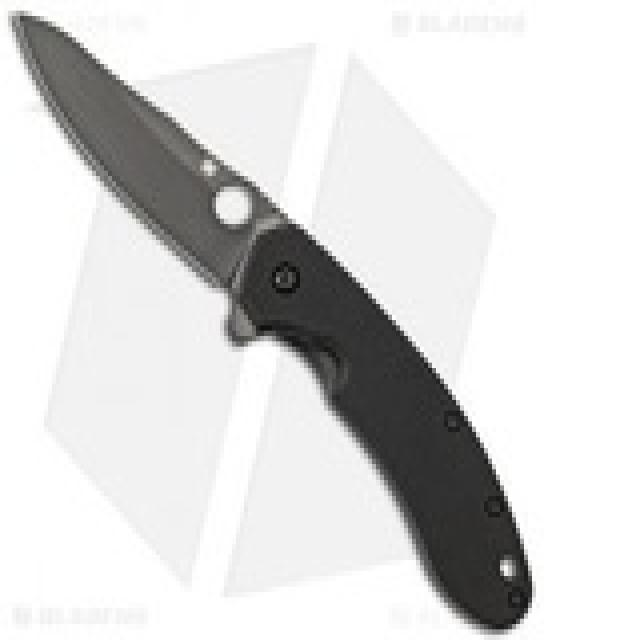Knife: (4, 0, 536, 635)
